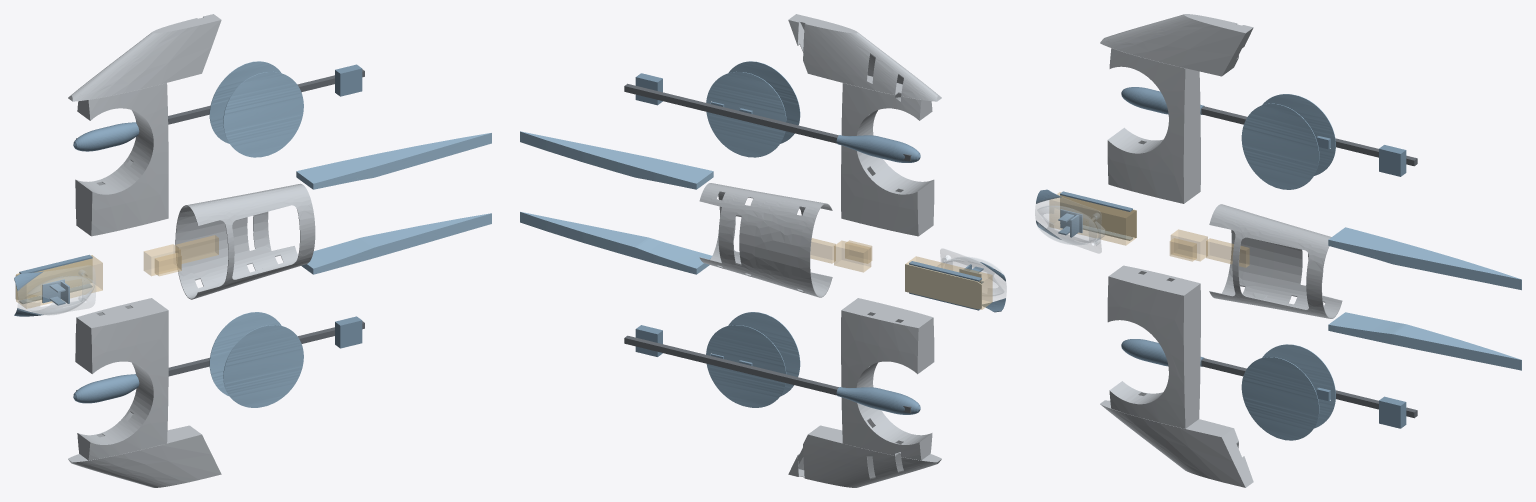
Rendered from v19c_forward_rotors.glb.
3 renders of one model, left to right at view 1: azimuth 30°, elevation 25°; view 2: azimuth 150°, elevation 25°; view 3: azimuth 330°, elevation 25°, orthographic.
Visible parts, largest first — view 1: F3_hollow_body, WLB_hollow_wing, WRB_hollow_wing, WRE1_falcon_wing, NEW_front_well_cap_upper_R, NEW_front_well_cap_upper_L, WLE1_falcon_wing, NEW_F5_root_fairing_R, NEW_F5_root_fairing_L, NEW_canopy_clear_PETG, KEEP_OUT_BATTERY_NOSE_BAY_140x48x33, NEW_front_well_cap_lower_L (+13 smaller); view 2: WLB_hollow_wing, F3_hollow_body, WRB_hollow_wing, WRE1_falcon_wing, WLE1_falcon_wing, NEW_front_well_cap_lower_R, NEW_front_well_cap_lower_L, NEW_F5_root_fairing_L, NEW_F5_root_fairing_R, NEW_G10_nose_battery_floor, NEW_CF_rotor_boom_L_10x10x523, NEW_CF_rotor_boom_R_10x10x523 (+11 smaller); view 3: WLB_hollow_wing, F3_hollow_body, WRB_hollow_wing, WRE1_falcon_wing, NEW_front_well_cap_upper_R, WLE1_falcon_wing, NEW_front_well_cap_upper_L, NEW_F5_root_fairing_R, NEW_F5_root_fairing_L, NEW_canopy_clear_PETG, KEEP_OUT_BATTERY_NOSE_BAY_140x48x33, NEW_front_well_cap_lower_L (+13 smaller).
Part boxes in pixels (x1=…): F3_hollow_body: x1=175, y1=183, x2=315, y2=299; WLB_hollow_wing: x1=75, y1=298, x2=168, y2=460; WRB_hollow_wing: x1=75, y1=83, x2=168, y2=236; WRE1_falcon_wing: x1=68, y1=14, x2=221, y2=101; NEW_front_well_cap_upper_R: x1=223, y1=71, x2=303, y2=157; NEW_front_well_cap_upper_L: x1=223, y1=325, x2=303, y2=407; WLE1_falcon_wing: x1=68, y1=425, x2=221, y2=487; NEW_F5_root_fairing_R: x1=296, y1=133, x2=491, y2=189; NEW_F5_root_fairing_L: x1=301, y1=213, x2=491, y2=274; NEW_canopy_clear_PETG: x1=17, y1=265, x2=95, y2=315; KEEP_OUT_BATTERY_NOSE_BAY_140x48x33: x1=16, y1=255, x2=102, y2=308; NEW_front_well_cap_lower_L: x1=209, y1=312, x2=281, y2=396; WLB_hollow_wing: x1=841, y1=298, x2=934, y2=460; F3_hollow_body: x1=699, y1=183, x2=832, y2=297; WRB_hollow_wing: x1=841, y1=83, x2=934, y2=236; WRE1_falcon_wing: x1=788, y1=14, x2=941, y2=101; WLE1_falcon_wing: x1=788, y1=425, x2=941, y2=487; NEW_front_well_cap_lower_R: x1=706, y1=71, x2=786, y2=157; NEW_front_well_cap_lower_L: x1=706, y1=325, x2=786, y2=407; NEW_F5_root_fairing_L: x1=520, y1=211, x2=711, y2=274; NEW_F5_root_fairing_R: x1=520, y1=131, x2=713, y2=189; NEW_G10_nose_battery_floor: x1=905, y1=264, x2=981, y2=309; NEW_CF_rotor_boom_L_10x10x523: x1=624, y1=335, x2=911, y2=413; NEW_CF_rotor_boom_R_10x10x523: x1=624, y1=83, x2=911, y2=161; WLB_hollow_wing: x1=1107, y1=265, x2=1200, y2=428; F3_hollow_body: x1=1209, y1=204, x2=1342, y2=318; WRB_hollow_wing: x1=1107, y1=48, x2=1200, y2=203; WRE1_falcon_wing: x1=1100, y1=14, x2=1253, y2=76; NEW_front_well_cap_upper_R: x1=1241, y1=103, x2=1319, y2=189; WLE1_falcon_wing: x1=1100, y1=400, x2=1253, y2=487; NEW_front_well_cap_upper_L: x1=1241, y1=357, x2=1319, y2=440; NEW_F5_root_fairing_R: x1=1328, y1=227, x2=1521, y2=290; NEW_F5_root_fairing_L: x1=1328, y1=312, x2=1521, y2=370; NEW_canopy_clear_PETG: x1=1035, y1=197, x2=1104, y2=253; KEEP_OUT_BATTERY_NOSE_BAY_140x48x33: x1=1049, y1=192, x2=1135, y2=245; NEW_front_well_cap_lower_L: x1=1262, y1=344, x2=1335, y2=428.
Size of the model in its own units: 878 by 794 by 99.07.
